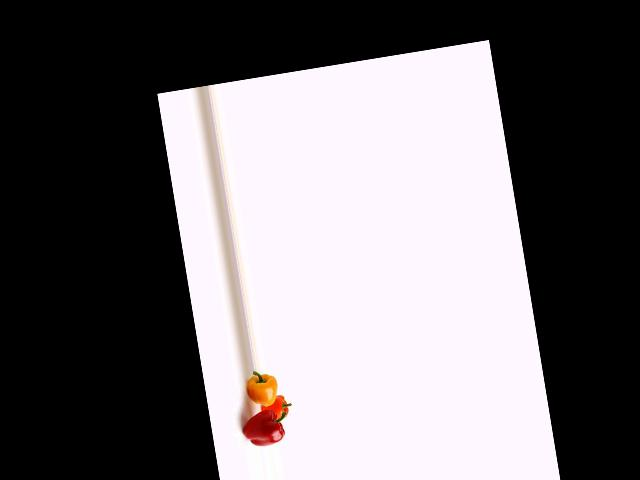bell_pepper: (235, 404, 295, 450)
